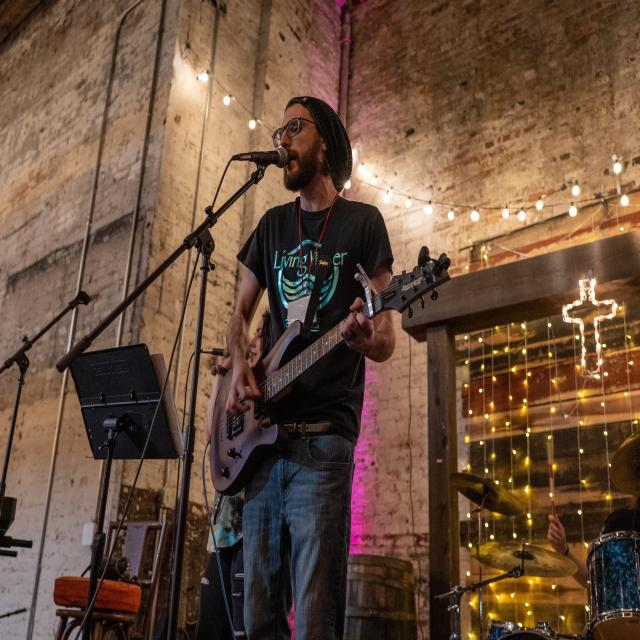guitar: (210, 252, 452, 498)
